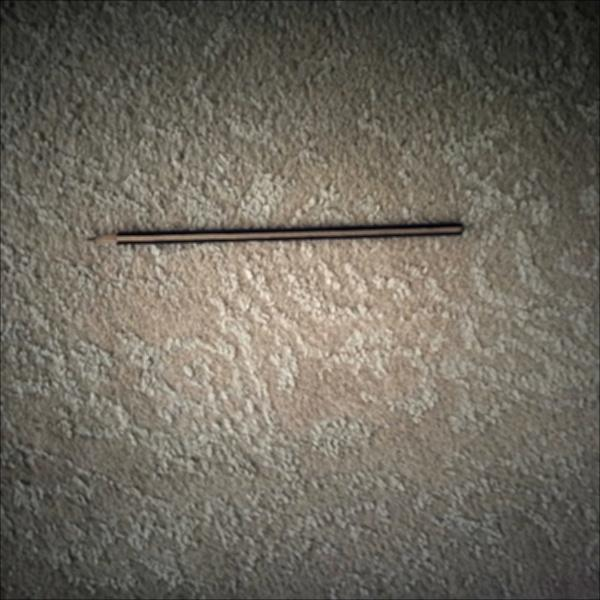pencil: (78, 216, 473, 248)
